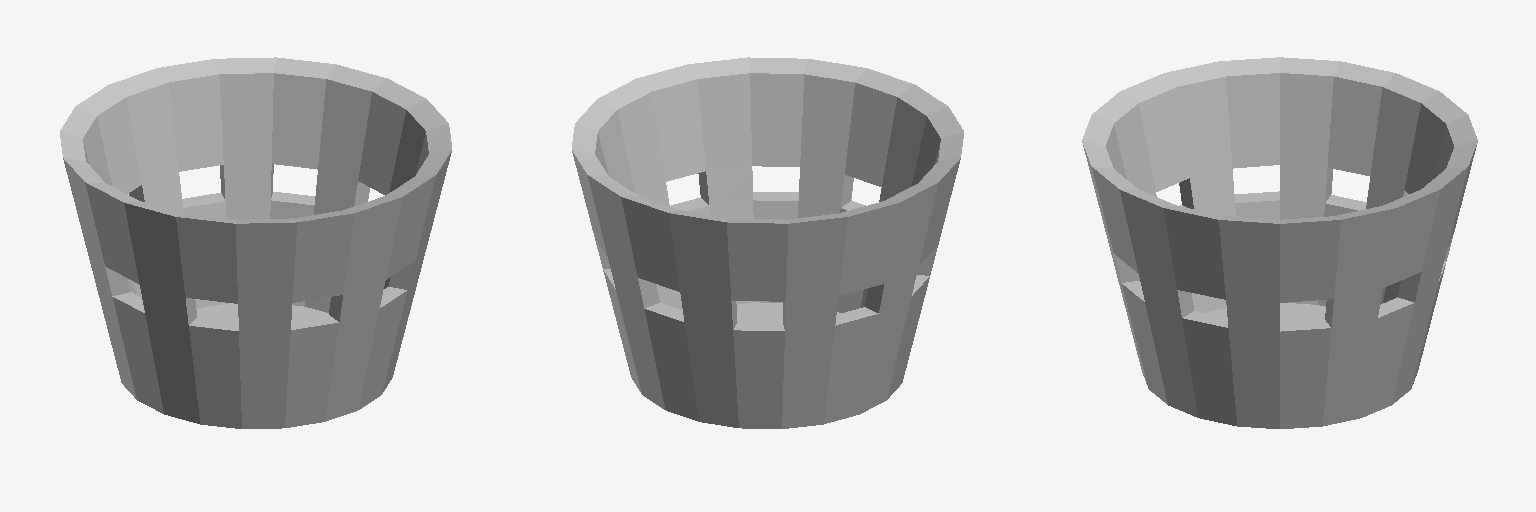
Rendered from basket.obj.
3 renders of one model, left to right at view 1: azimuth 30°, elevation 25°; view 2: azimuth 150°, elevation 25°; view 3: azimuth 270°, elevation 25°, orthographic.
Visible parts, largest first — view 1: Cylinder; view 2: Cylinder; view 3: Cylinder.
Boxes of the visible parts, <box> form: Cylinder: <box>60,57,451,428</box>; Cylinder: <box>572,57,963,428</box>; Cylinder: <box>1082,57,1477,428</box>.
Bounding box in the file's own units: 5.47 × 3.53 × 5.49.